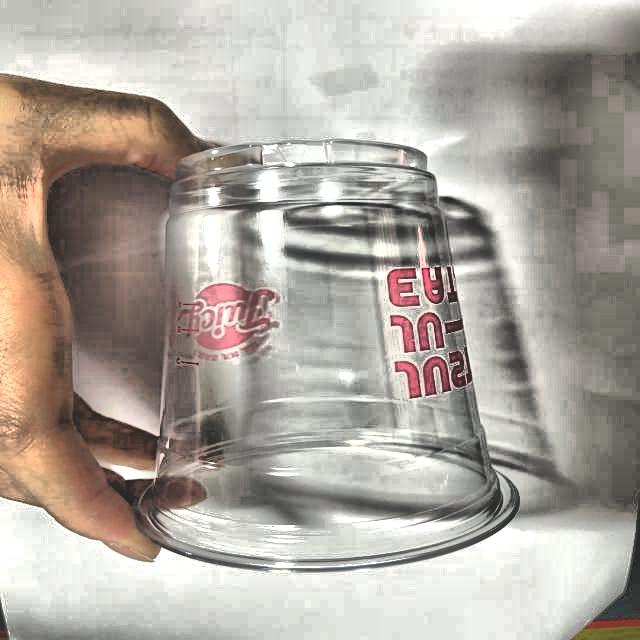plastic cup: (133, 137, 528, 578)
